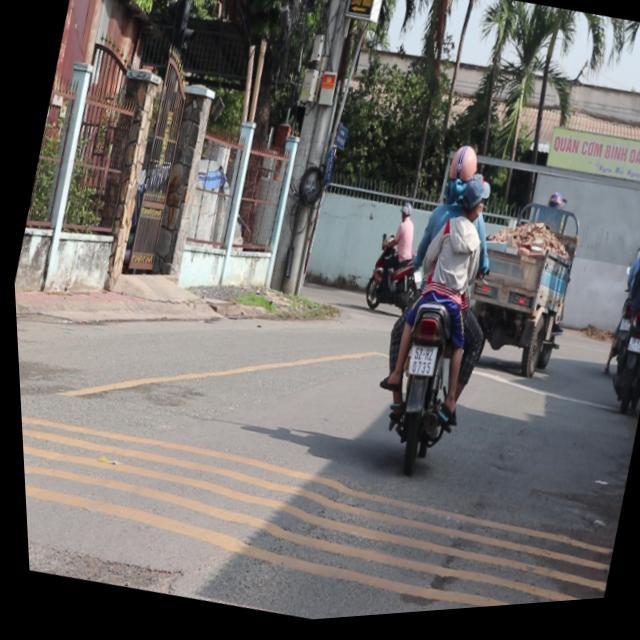helmet: (440, 147, 481, 202)
licenseplate: (343, 131, 530, 488)
motorcyclist: (451, 180, 487, 230)
nohelmet: (401, 348, 435, 385)
